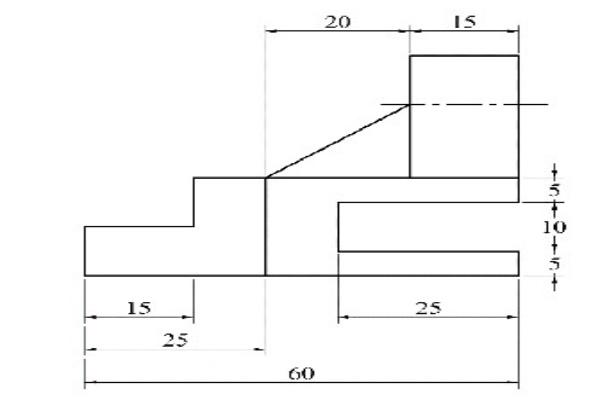dimensions: (445, 10, 485, 35), (318, 8, 357, 33), (117, 295, 155, 318), (159, 325, 191, 349), (542, 213, 570, 239), (285, 363, 321, 382), (412, 297, 446, 316), (545, 175, 566, 201), (547, 252, 566, 273)
